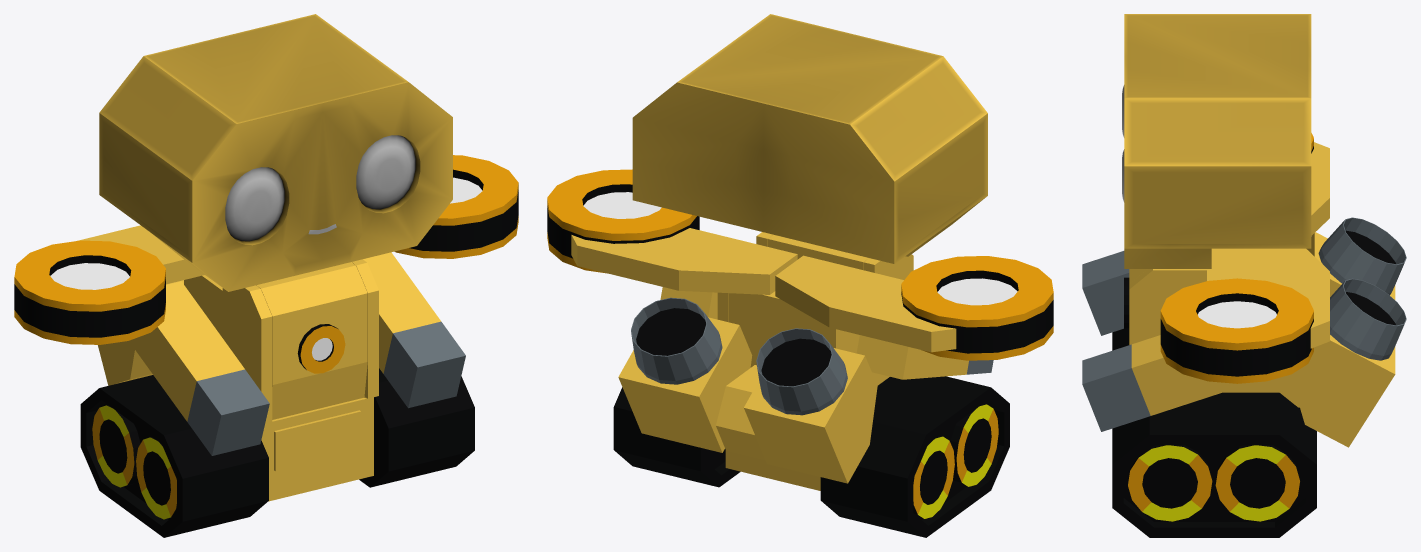
The model's file is Kobo1.fbx.
The picture shows the model from 3 angles, left to right: view 1: azimuth 30°, elevation 25°; view 2: azimuth 150°, elevation 25°; view 3: azimuth 270°, elevation 25°; orthographic projection.
Parts seen in each view (by area): view 1: Part1_F_Head01.001, Cube.003, Cylinder.004, Cube.025, Cube.023, Cube.024, Cube.021, Cube.011, Cylinder.002, Cube.022, Cube.004, Cube.019 (+3 smaller); view 2: Part1_F_Head01.001, Cube.028, Cube.003, Cube.018, Cylinder.004, Cube.026, Cube.027, Cylinder.002, Cube.023, Cube.011, Cube.025, Cube.019 (+4 smaller); view 3: Part1_F_Head01.001, Cube.011, Cylinder.002, Cube.018, Cube.024, Cube.004, Cube.019, Cube.028, Cube.026, Cube.022, Cube.025, Cube.027 (+1 smaller).
Part boxes in pixels (x1,y1,x2,y2): Part1_F_Head01.001: (99, 14, 452, 291); Cube.003: (80, 375, 268, 537); Cylinder.004: (14, 240, 165, 344); Cube.025: (129, 281, 269, 455); Cube.023: (256, 262, 367, 419); Cube.024: (363, 252, 465, 408); Cube.021: (261, 397, 373, 501); Cube.011: (359, 368, 474, 487); Cylinder.002: (394, 155, 518, 258); Cube.022: (184, 259, 378, 423); Cube.004: (92, 405, 140, 487); Cube.019: (136, 437, 176, 519); Part1_F_Head01.001: (632, 14, 987, 263); Cube.028: (744, 328, 877, 483); Cube.003: (820, 376, 1009, 537); Cube.018: (618, 297, 752, 452); Cylinder.004: (901, 256, 1053, 360); Cube.026: (571, 228, 797, 294); Cube.027: (775, 255, 956, 352); Cylinder.002: (547, 169, 699, 273); Cube.023: (716, 234, 868, 459); Cube.011: (613, 387, 740, 487); Cube.025: (856, 335, 993, 379); Cube.019: (950, 403, 998, 486); Part1_F_Head01.001: (1122, 14, 1311, 268); Cube.011: (1112, 392, 1316, 537); Cylinder.002: (1160, 278, 1313, 383); Cube.018: (1290, 278, 1406, 447); Cube.024: (1082, 335, 1252, 431); Cube.004: (1215, 445, 1300, 521); Cube.019: (1128, 445, 1212, 521); Cube.028: (1306, 217, 1406, 299); Cube.026: (1237, 248, 1329, 348); Cube.022: (1129, 269, 1284, 395); Cube.025: (1082, 251, 1129, 335); Cube.027: (1311, 142, 1329, 235).
Size of the model in its own units: 12.36 by 9.95 by 7.13.
